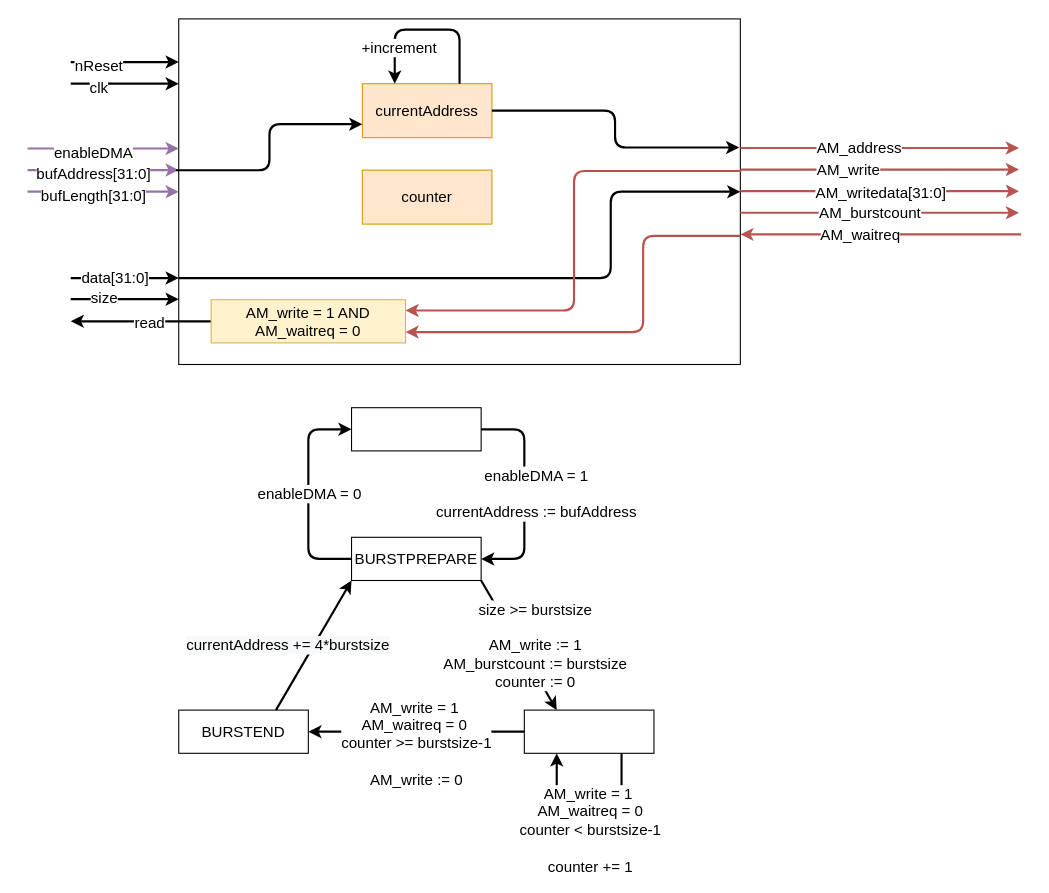
Image size: 1049x893. Some labels were removed from this diagram. Each missing label, with the box of its shape:
BURST: (523, 709, 654, 753)
DMA: (178, 18, 740, 364)
IDLE (initial): (350, 407, 481, 451)
